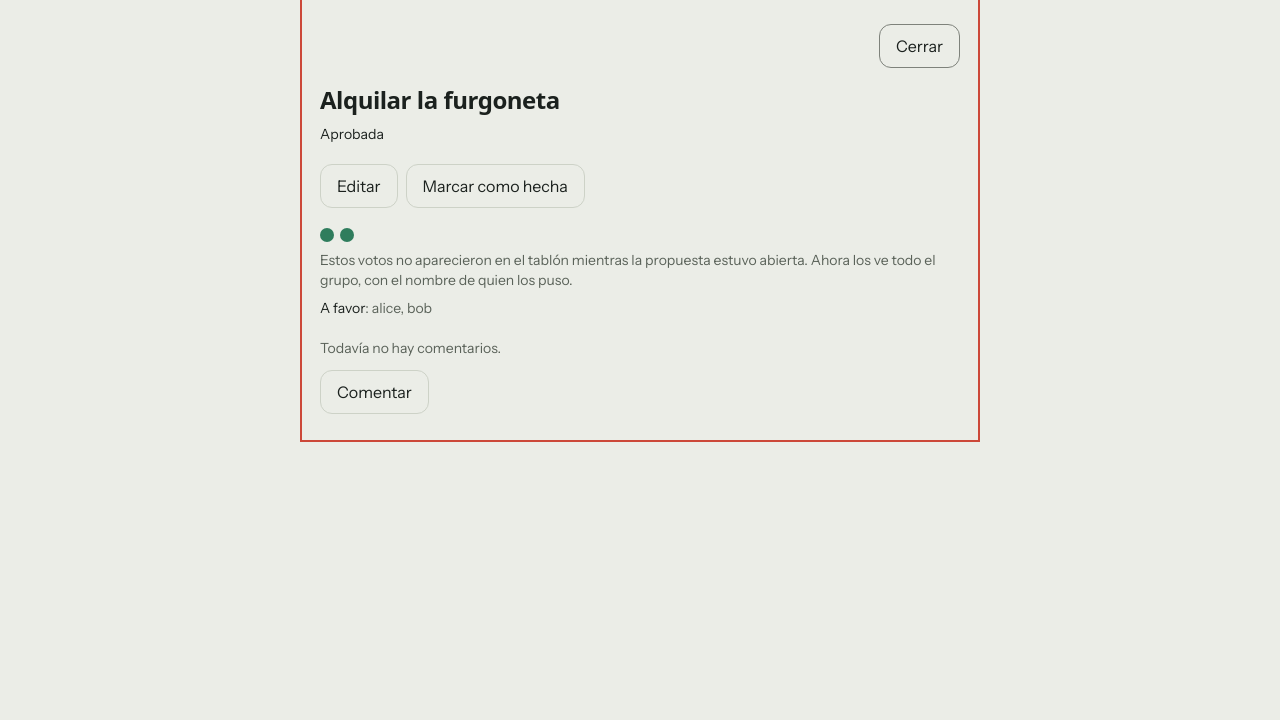
BoardPage › marcar como hecha sin coste se puede cancelar sin ejecutarse
What coordinates should you click on to do the following:
click the button "Marcar como hecha"
I would click on:
 (495, 186)
Its box is [406, 164, 585, 208].
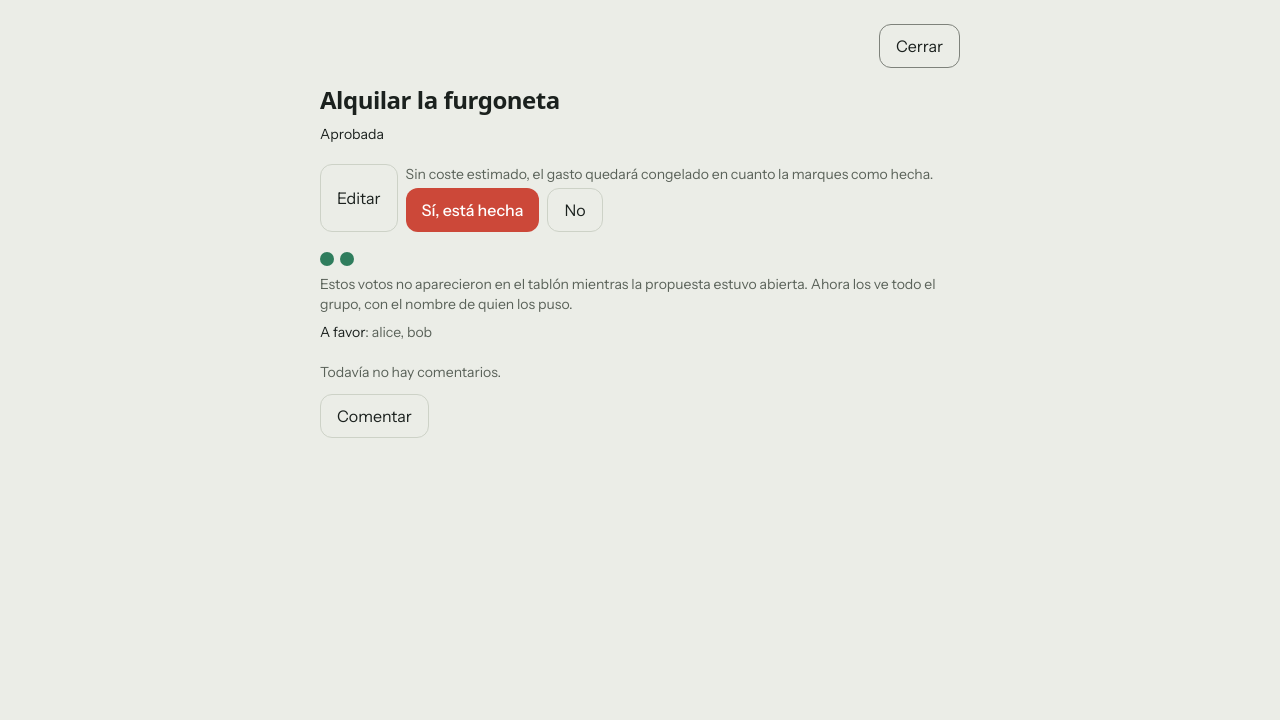
What coordinates should you click on to do the following:
click the button "No"
I would click on:
 (575, 210)
Its box is [547, 188, 602, 232].
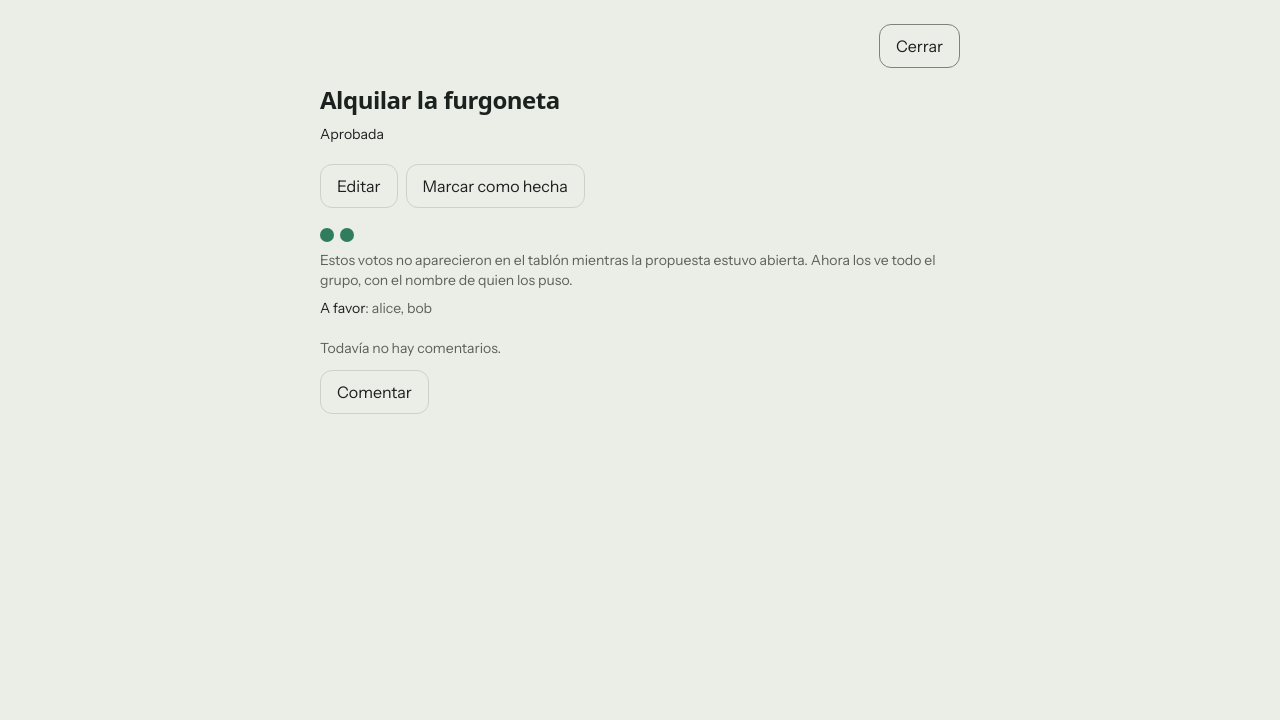
expect the button "Marcar como hecha" is shown: met, box [406, 164, 585, 208]
